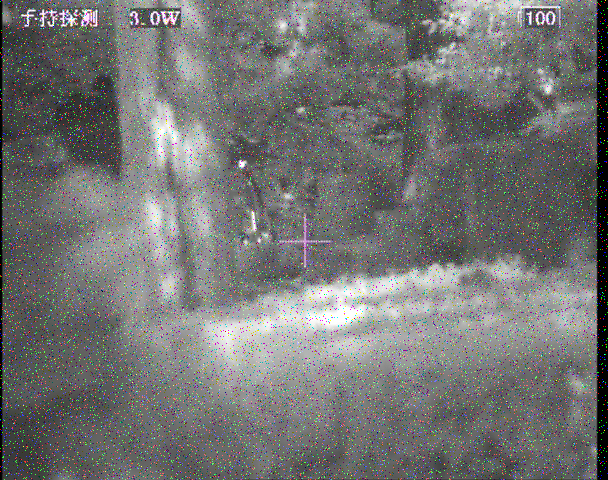my: (238, 159, 247, 169)
